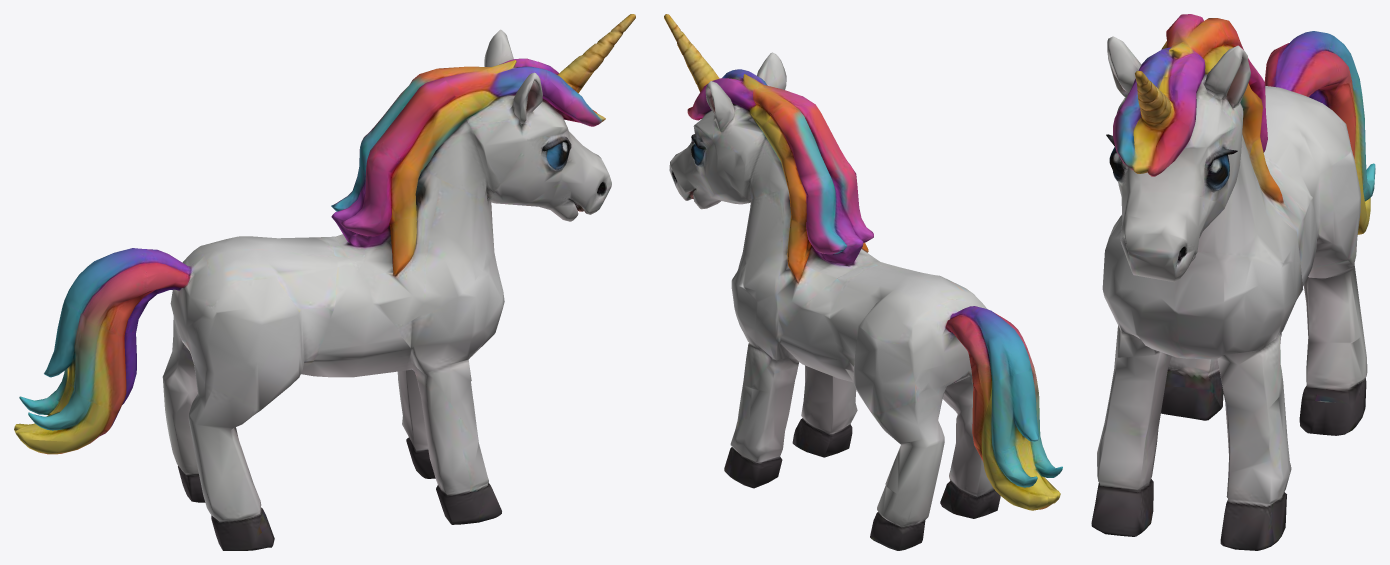
Rendered from unicorn.glb.
3 renders of one model, left to right at view 1: azimuth 30°, elevation 25°; view 2: azimuth 150°, elevation 25°; view 3: azimuth 270°, elevation 25°, orthographic. The views are drawn at different scales.
Parts seen in each view (by area): view 1: tripo_node_97e34fc6-b2ec-4f40-8e56-2693587e433a; view 2: tripo_node_97e34fc6-b2ec-4f40-8e56-2693587e433a; view 3: tripo_node_97e34fc6-b2ec-4f40-8e56-2693587e433a.
Part boxes in pixels (left/top/right/bottom): tripo_node_97e34fc6-b2ec-4f40-8e56-2693587e433a: left=14, top=14, right=635, bottom=550; tripo_node_97e34fc6-b2ec-4f40-8e56-2693587e433a: left=664, top=14, right=1062, bottom=550; tripo_node_97e34fc6-b2ec-4f40-8e56-2693587e433a: left=1091, top=14, right=1375, bottom=550.
Bounding box in the file's own units: 0.9998 × 0.8169 × 0.381.
Materials: 1 (1 with a texture image).
